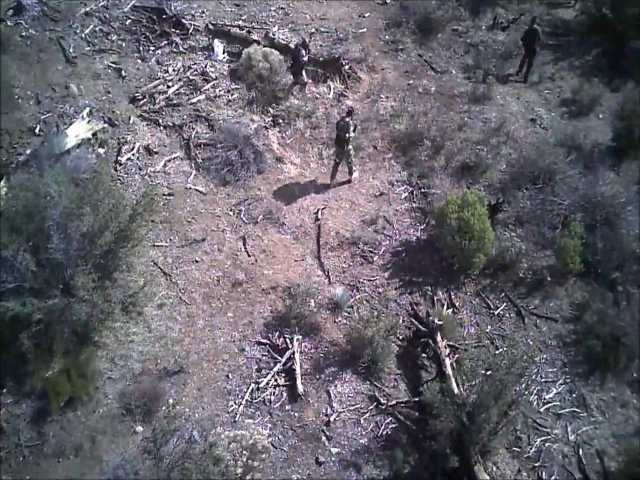person: (327, 105, 363, 190), (513, 16, 543, 84)
